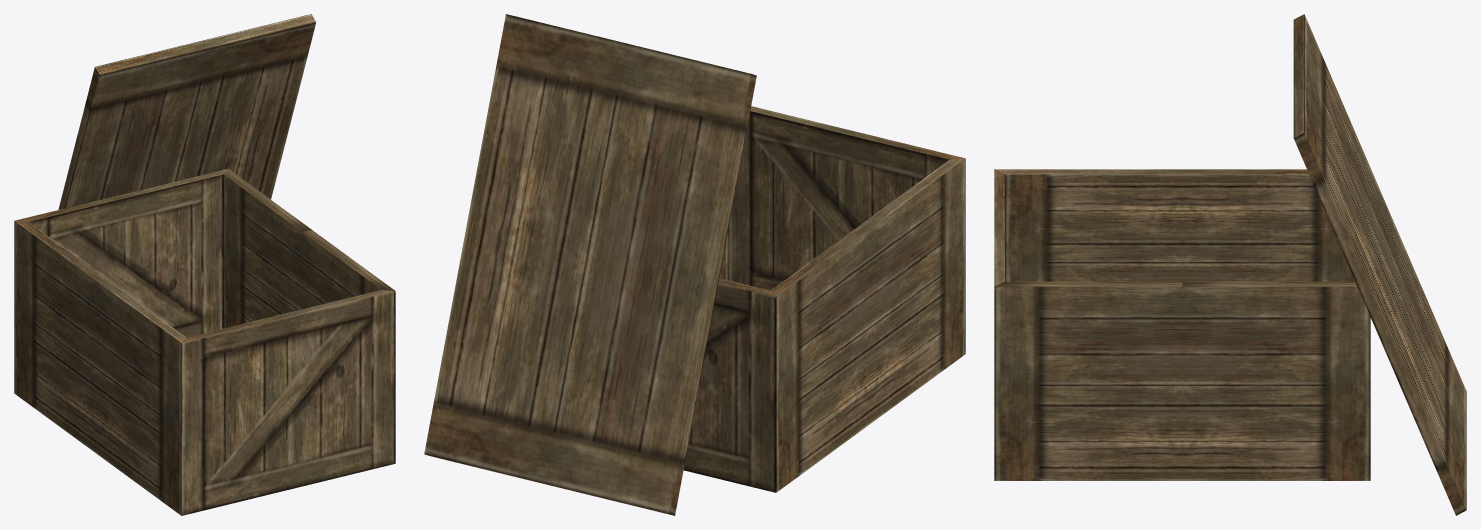
The model's file is pir_m_prp_cnt_crateStowaway.fbx.
The picture shows the model from 3 angles, left to right: view 1: azimuth 30°, elevation 25°; view 2: azimuth 150°, elevation 25°; view 3: azimuth 270°, elevation 25°; orthographic projection. The views are drawn at different scales.
Visible parts, largest first — view 1: crate, Top; view 2: Top, crate; view 3: crate, Top.
Boxes of the visible parts, x1=… form: crate: x1=14, y1=168, x2=395, y2=515; Top: x1=58, y1=14, x2=316, y2=209; Top: x1=424, y1=14, x2=756, y2=515; crate: x1=683, y1=106, x2=965, y2=492; crate: x1=994, y1=169, x2=1370, y2=480; Top: x1=1293, y1=14, x2=1466, y2=515.
Size of the model in its own units: 408 by 496 by 554.
1 material, 1 textured.
